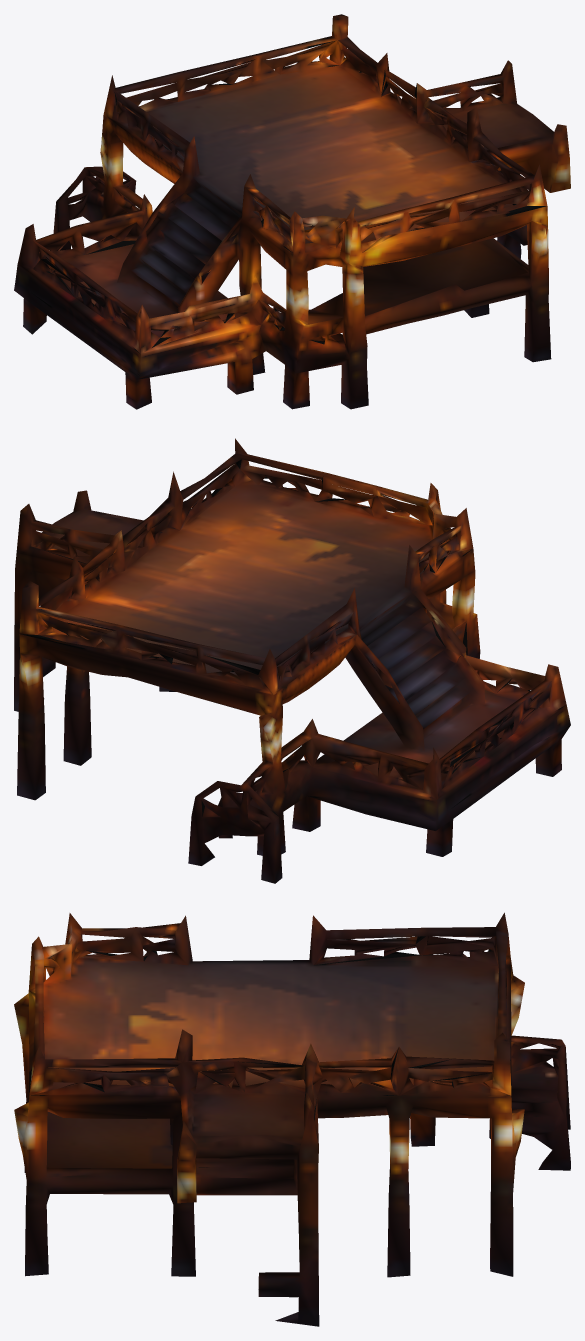
File: DoubleStaresBase_LOD2.fbx
3 views of the same model, one above another, from view 1: azimuth 30°, elevation 25°; view 2: azimuth 150°, elevation 25°; view 3: azimuth 270°, elevation 25° (orthographic). The views are drawn at different scales.
Parts seen in each view (by area): view 1: node_0.001; view 2: node_0.001; view 3: node_0.001.
Part boxes in pixels (box(x1,y1,x2,y2)): node_0.001: box(14, 14, 570, 409); node_0.001: box(14, 438, 570, 883); node_0.001: box(14, 912, 570, 1326).
Size of the model in its own units: 101 by 44.8 by 92.26.
1 material, 1 textured.
